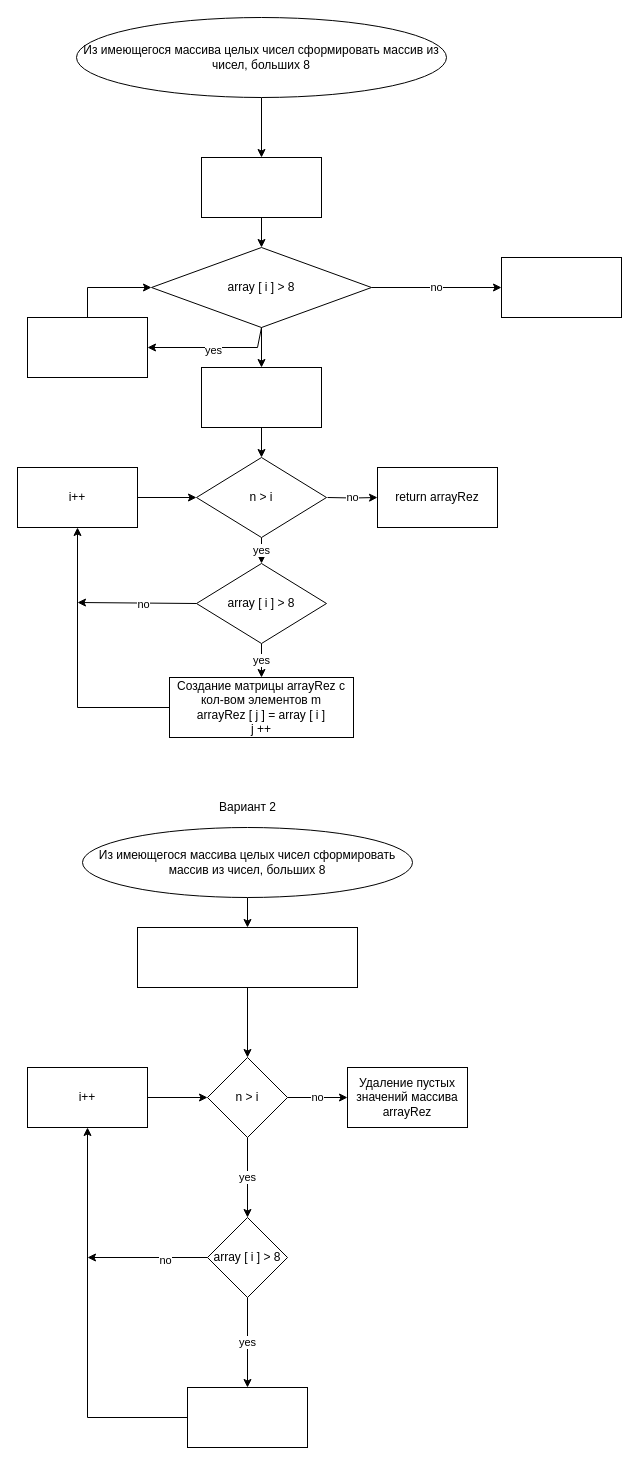
The diagram is 639 pixels wide and 1465 high, and some of its shapes have lost their labels. The box of each missing label's shape, as (x1, y1, x2, y2) in pixels:
array = [1, 2, 3, 4] n = array.Length arrayRez = [ ] j = 0, i = 0, m =0: (200, 156, 322, 218)
array = [1, 3, 14, 5, 7, 1, 23 ] n = array.Length arrayRez = [ ] i = 0: (136, 926, 358, 988)
arrayRez [ i ] = array [ i ]: (186, 1386, 308, 1448)
i = 0: (200, 366, 322, 428)
m++ i++: (26, 316, 148, 378)
пустая матрица: (500, 256, 622, 318)
